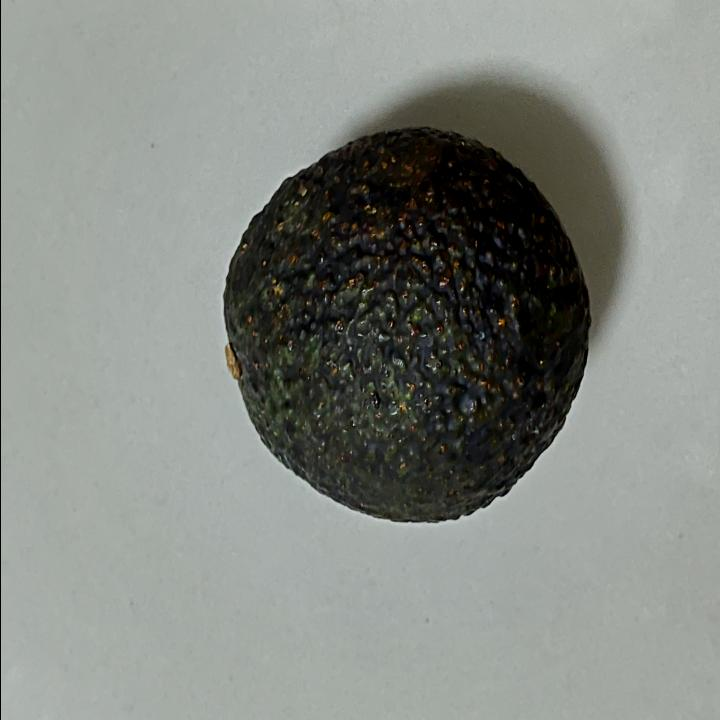Level1: (205, 116, 603, 536)
